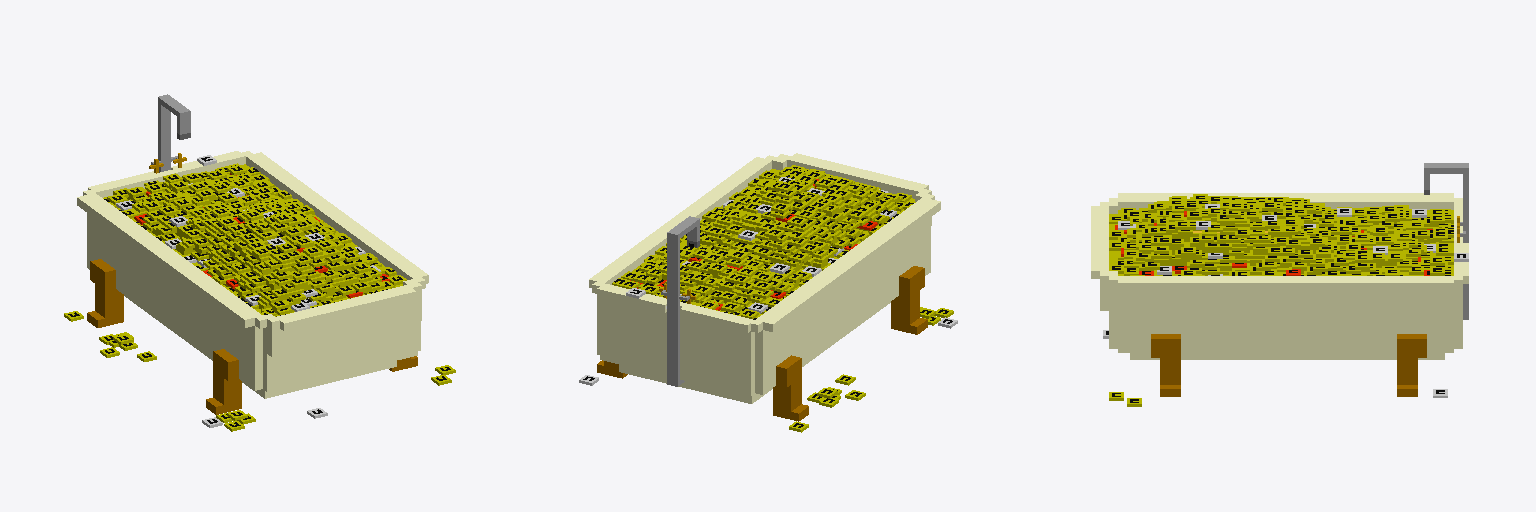
3 views of the same model, side by side, from view 1: azimuth 30°, elevation 25°; view 2: azimuth 150°, elevation 25°; view 3: azimuth 270°, elevation 25° (orthographic).
Size of the model in its own units: 95 by 67 by 126.
Materials: 1 (1 with a texture image).